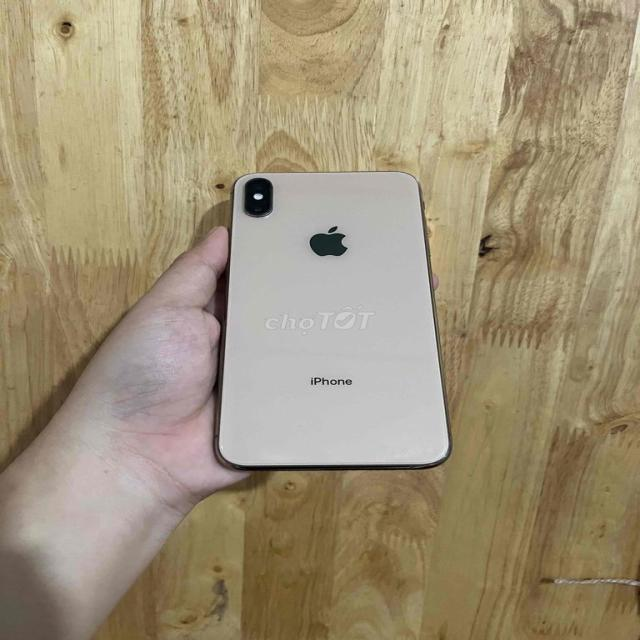gen_x_xs: (213, 172, 450, 470)
